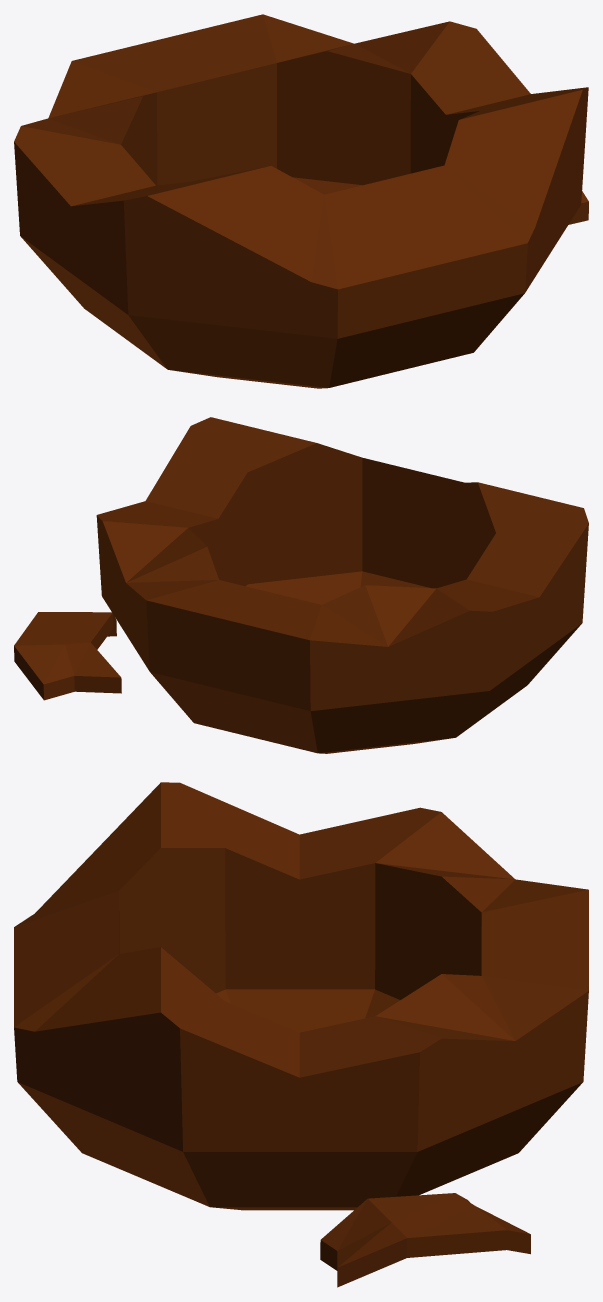
File: SM_SM_Pottery_03.fbx
3 views of the same model, one above another, from view 1: azimuth 30°, elevation 25°; view 2: azimuth 150°, elevation 25°; view 3: azimuth 270°, elevation 25° (orthographic). The views are drawn at different scales.
Visible parts, largest first — view 1: SM_Pottery_03; view 2: SM_Pottery_03; view 3: SM_Pottery_03.
Part boxes in pixels (x1,y1,x2,y2): SM_Pottery_03: (14,14,588,388); SM_Pottery_03: (14,417,588,753); SM_Pottery_03: (14,782,588,1287).
Size of the model in its own units: 46.76 by 19.57 by 39.97.
